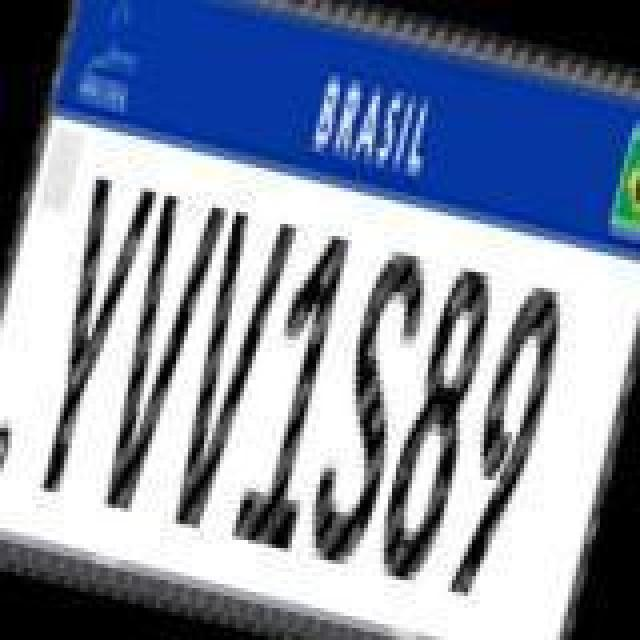1: (224, 224, 368, 560)
8: (370, 258, 510, 590)
9: (436, 276, 580, 612)
S: (296, 238, 440, 578)
V: (86, 184, 234, 520), (150, 204, 298, 540)
Y: (14, 168, 162, 504)
